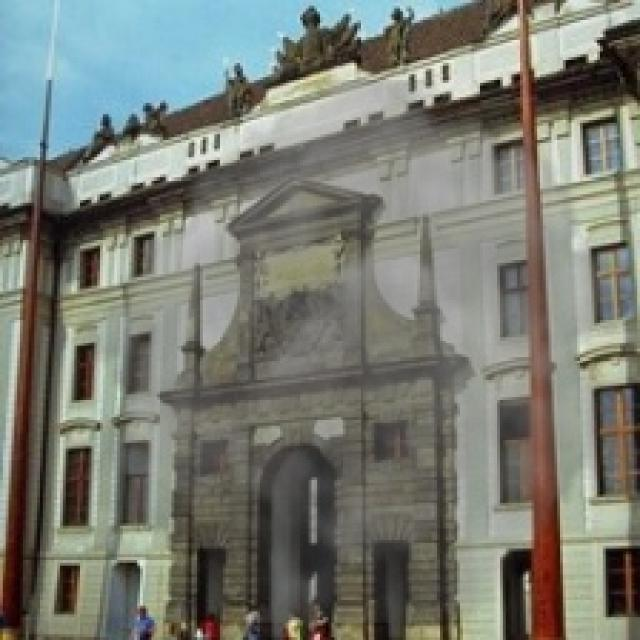Smoke: (72, 80, 638, 626)
